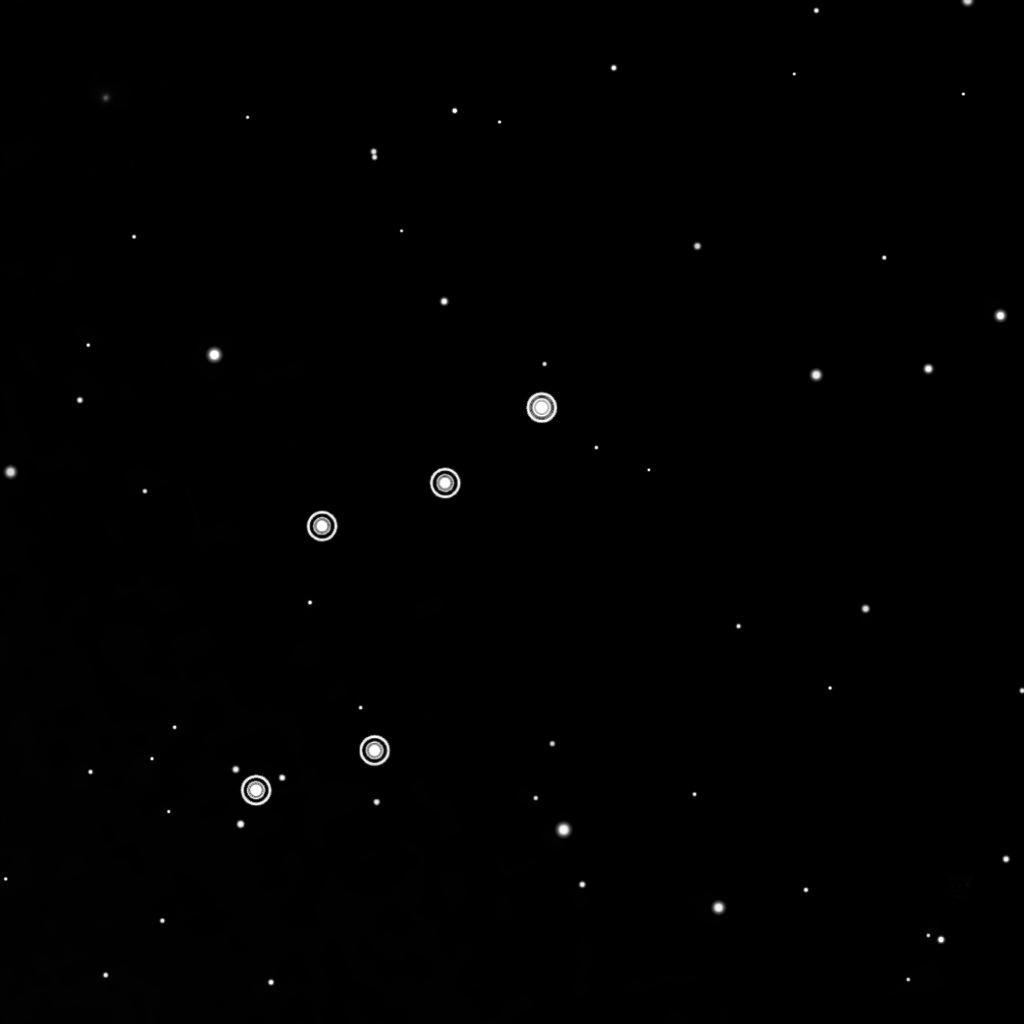lyra: (229, 381, 567, 813)
